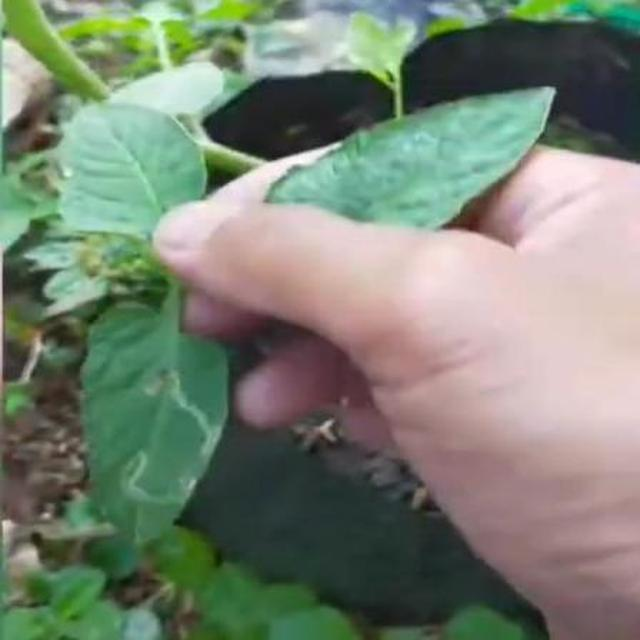Leaf Miner: (188, 190, 222, 622)
